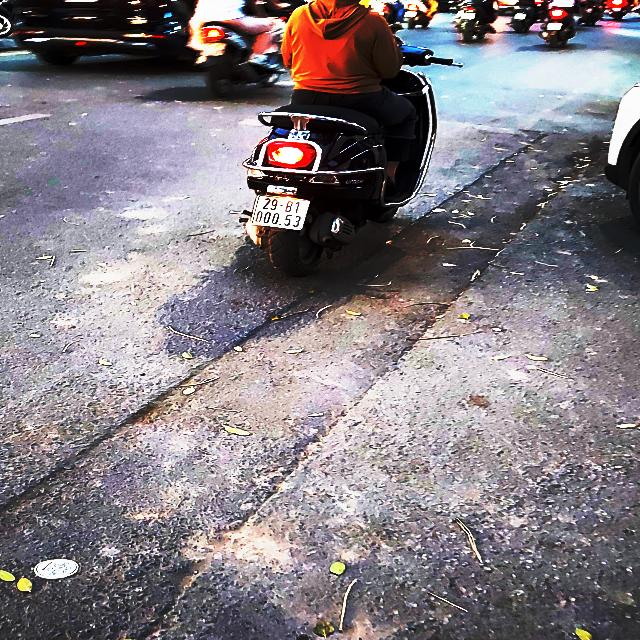license_plate: (249, 193, 320, 234)
